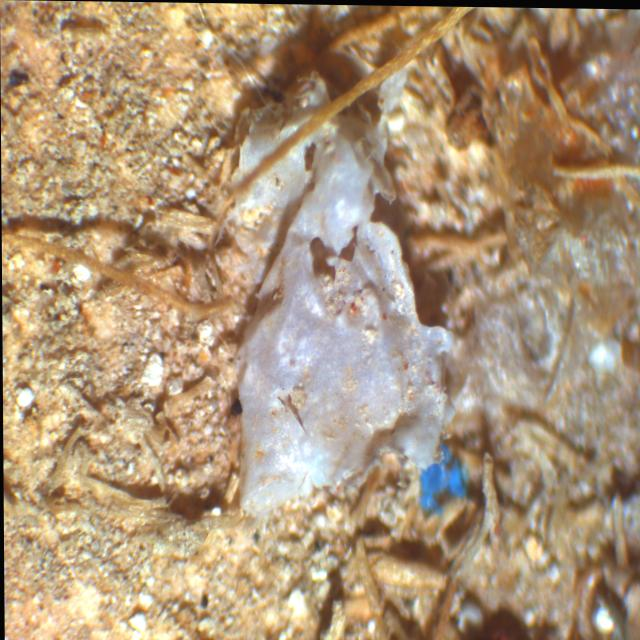microplastic: (226, 69, 460, 517)
